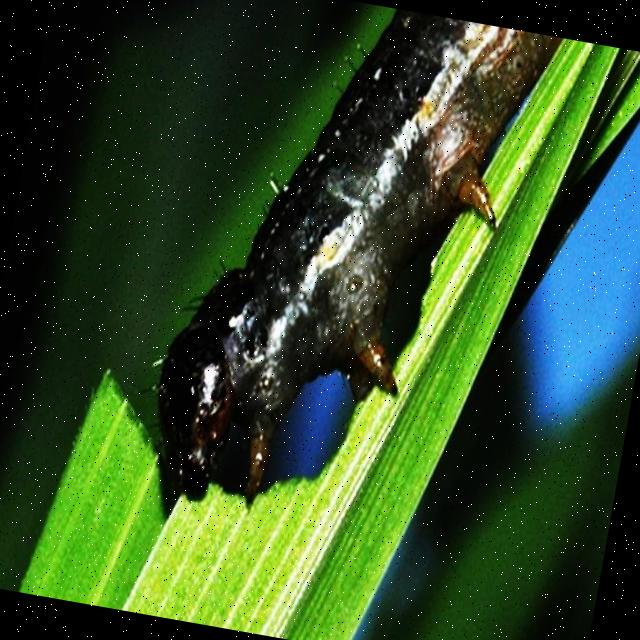worm: (128, 1, 569, 559)
